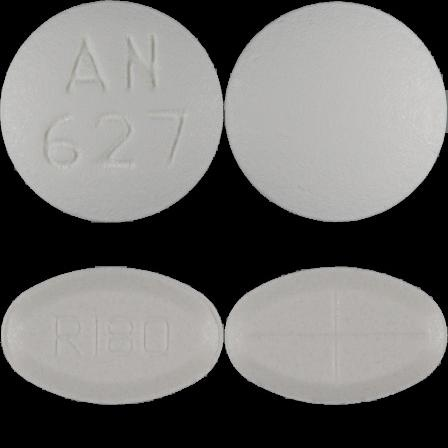52959-688: (0, 0, 224, 224)
